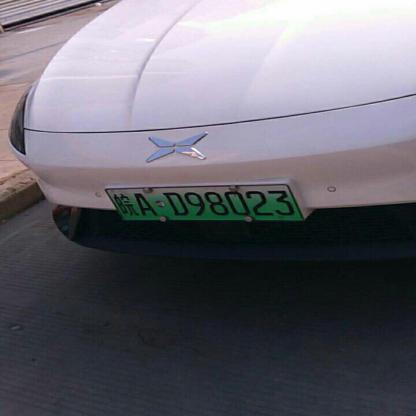lp: (103, 184, 305, 219)
